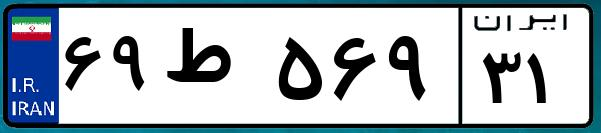1: (525, 38, 570, 115)
3: (475, 38, 525, 113)
5: (270, 28, 330, 110)
6: (330, 28, 385, 110), (57, 26, 110, 100)
9: (385, 28, 445, 110), (110, 28, 158, 98)
ط: (158, 20, 270, 120)
